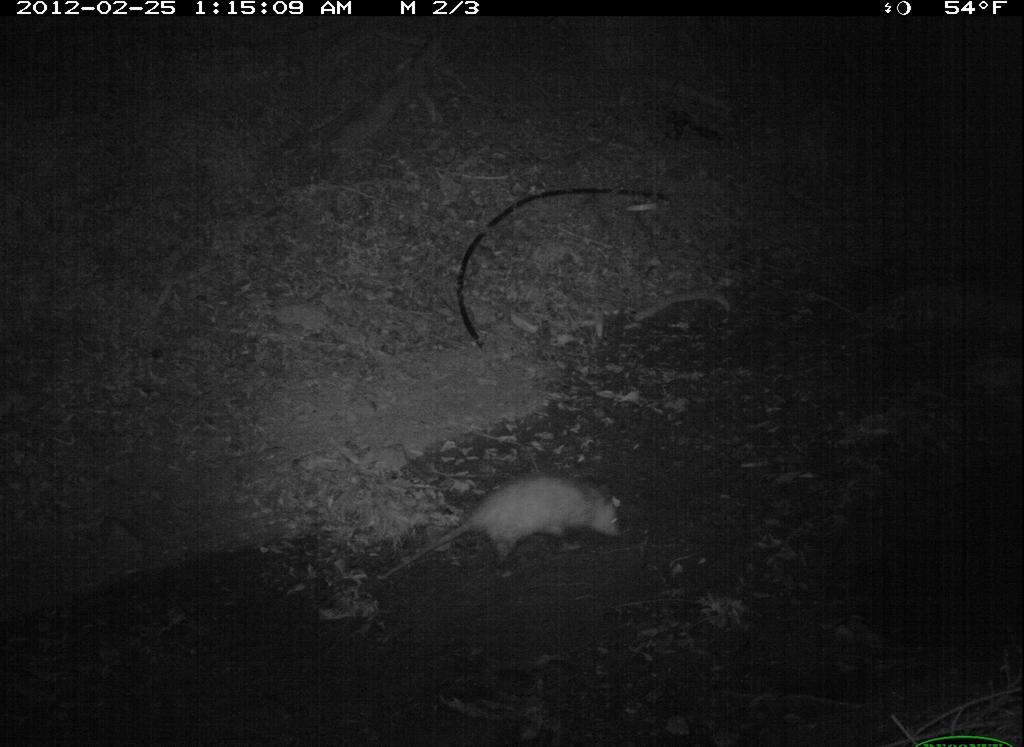opossum: (391, 461, 628, 575)
